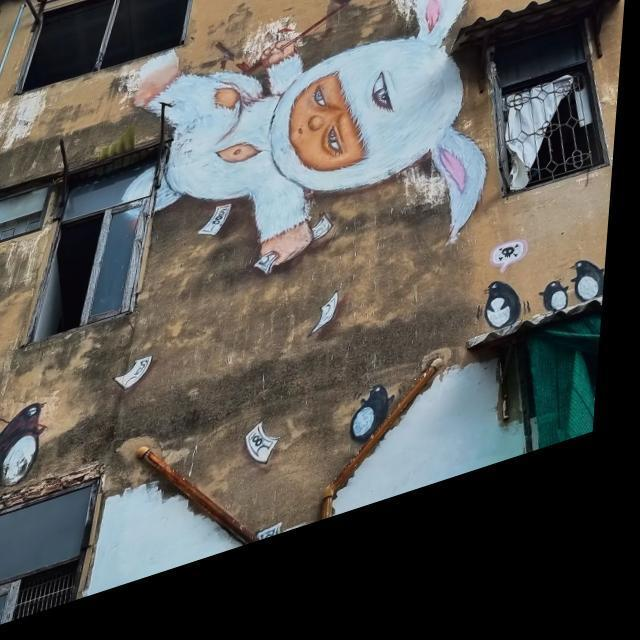-: (107, 0, 515, 373), (483, 262, 544, 370), (0, 392, 57, 502), (340, 396, 408, 486), (575, 286, 612, 346), (548, 310, 576, 358)
